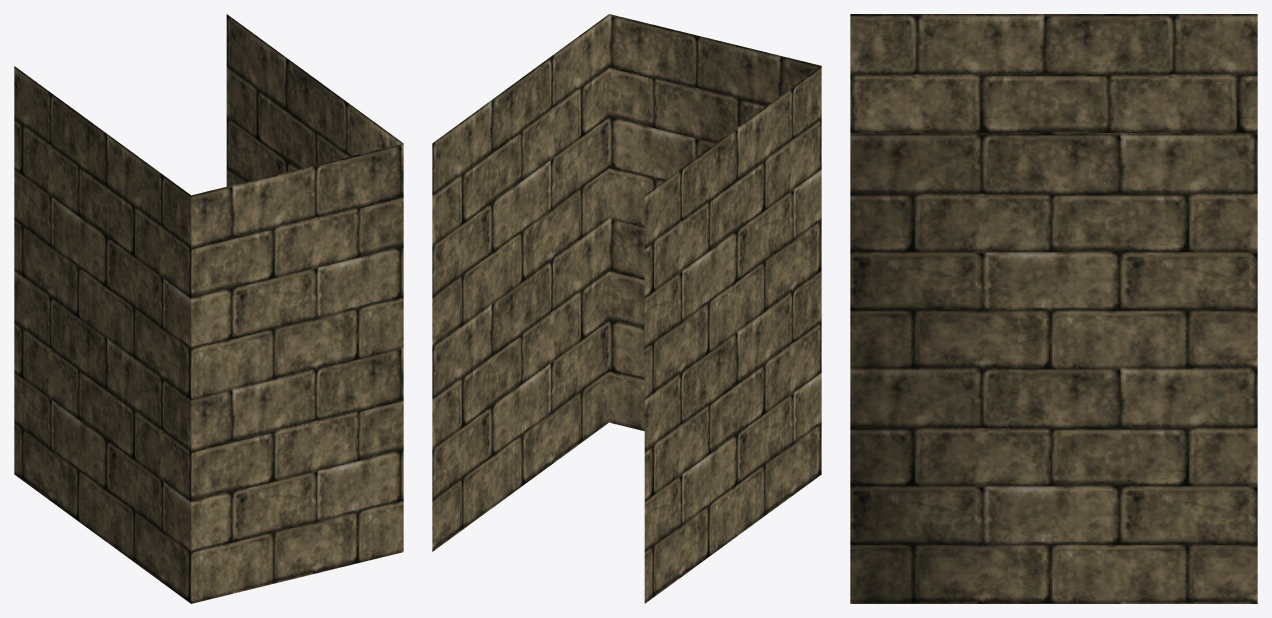
Rendered from OVERHILL_A_01_OBJECT131.fbx.
The picture shows the model from 3 angles, left to right: view 1: azimuth 30°, elevation 25°; view 2: azimuth 150°, elevation 25°; view 3: azimuth 270°, elevation 25°; orthographic projection. The views are drawn at different scales.
Visible parts, largest first — view 1: OVERHILL_A_01_OBJECT131; view 2: OVERHILL_A_01_OBJECT131; view 3: OVERHILL_A_01_OBJECT131.
Boxes of the visible parts, box(x1,y1,x2,y2) form: OVERHILL_A_01_OBJECT131: box(14, 14, 403, 603); OVERHILL_A_01_OBJECT131: box(432, 14, 821, 603); OVERHILL_A_01_OBJECT131: box(850, 14, 1257, 603).
Bounding box in the file's own units: 34680 × 63712 × 50000.
Materials: 1 (1 with a texture image).
